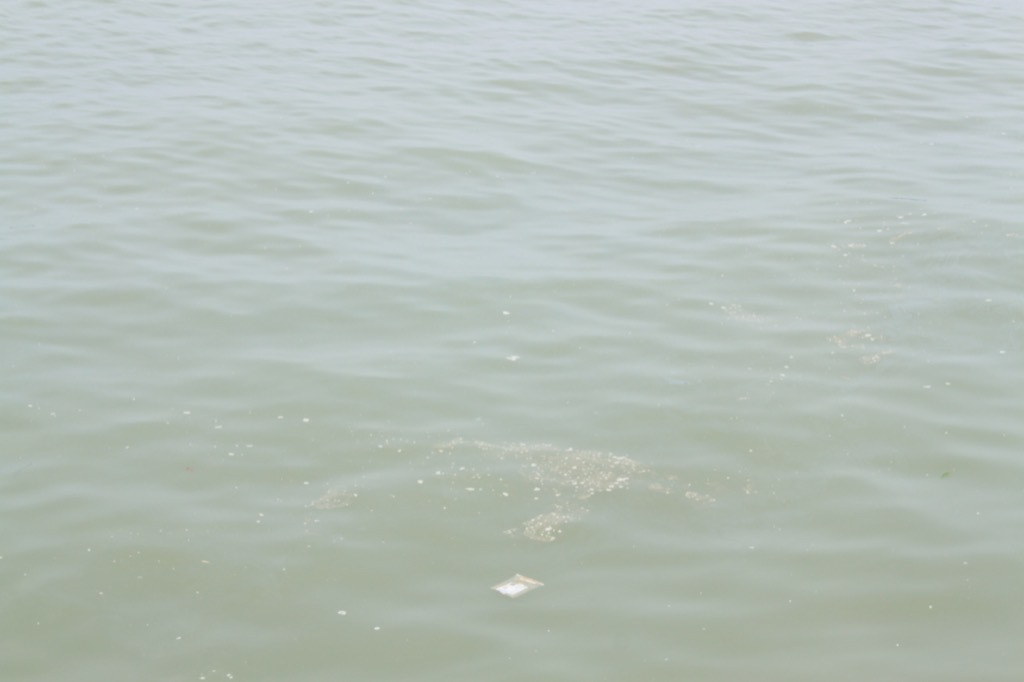plastic: (482, 565, 553, 614)
